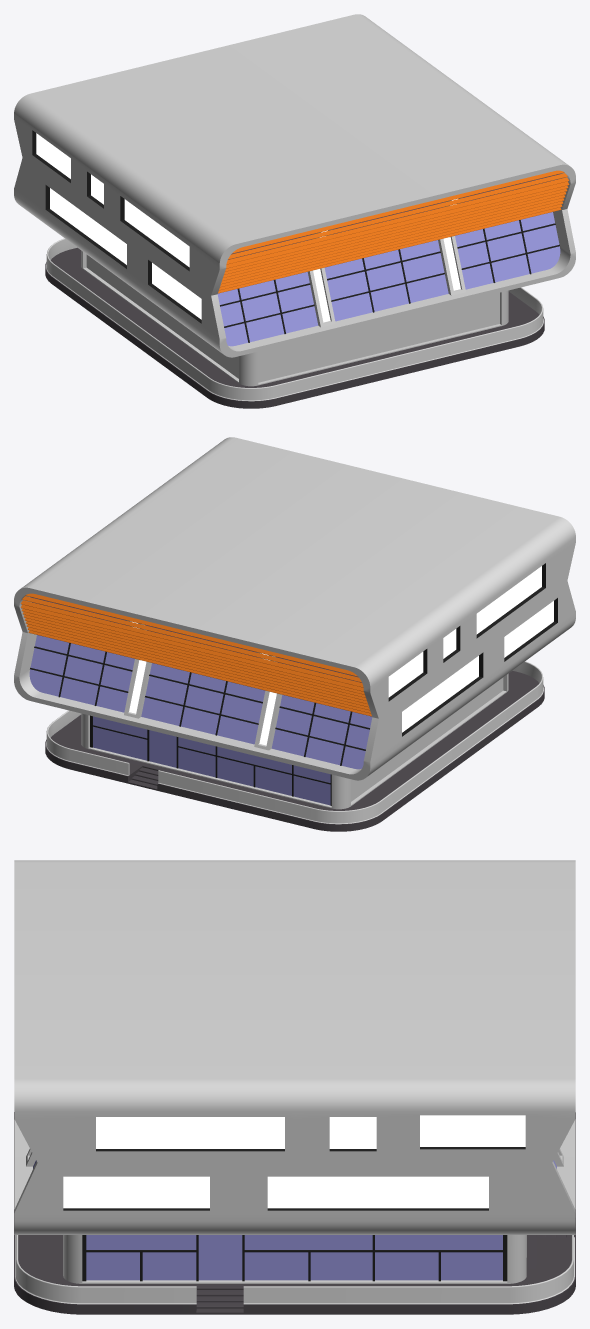
File: SM_B_i1_Base_Flor.fbx
3 renders of one model, top to bottom at view 1: azimuth 30°, elevation 25°; view 2: azimuth 150°, elevation 25°; view 3: azimuth 270°, elevation 25°, orthographic. The views are drawn at different scales.
Parts seen in each view (by area): view 1: Bil1_Base_floor.fbx; view 2: Bil1_Base_floor.fbx; view 3: Bil1_Base_floor.fbx.
Boxes of the visible parts, bbox=[...] form: Bil1_Base_floor.fbx: bbox=[14, 14, 575, 408]; Bil1_Base_floor.fbx: bbox=[14, 437, 575, 831]; Bil1_Base_floor.fbx: bbox=[14, 860, 575, 1314].
Bounding box in the file's own units: 2000 × 920 × 2002.
